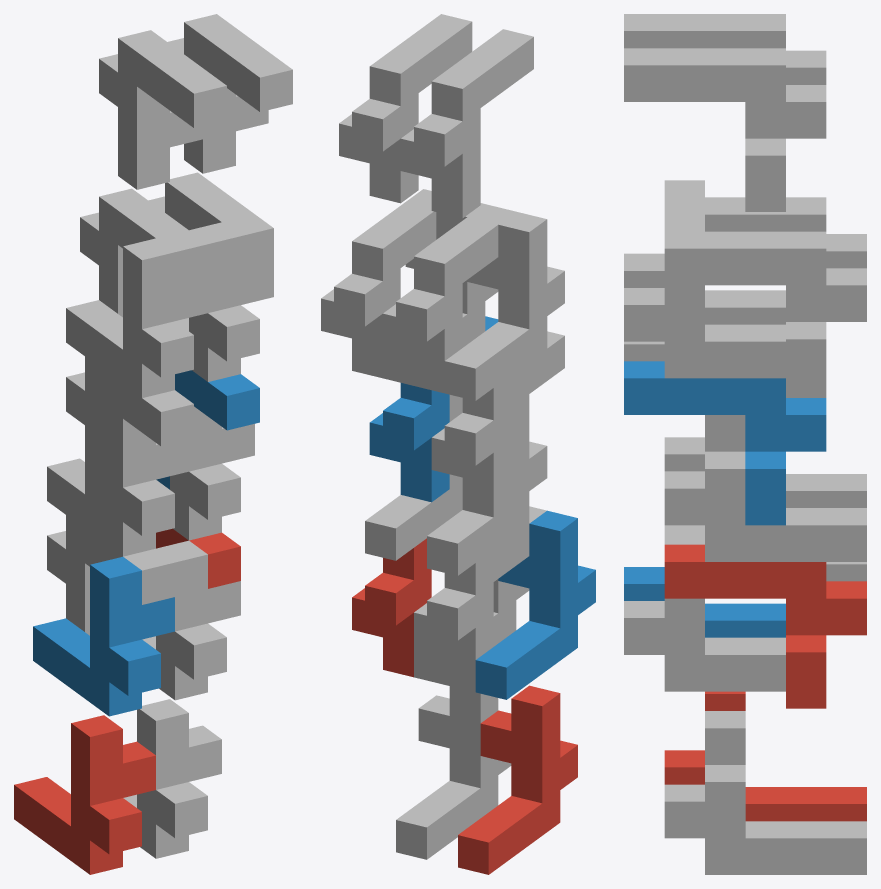
File: tiling.obj
3 renders of one model, left to right at view 1: azimuth 30°, elevation 25°; view 2: azimuth 150°, elevation 25°; view 3: azimuth 270°, elevation 25°, orthographic. The views are drawn at different scales.
Parts seen in each view (by area): view 1: copy_1_domain_1, copy_1_domain_4, copy_1_domain_2, copy_2_domain_4, copy_1_domain_3, copy_2_domain_8, copy_1_domain_5, copy_1_domain_6, copy_1_domain_8, copy_2_domain_3, copy_2_domain_2, copy_1_domain_7 (+4 smaller); view 2: copy_1_domain_1, copy_2_domain_4, copy_1_domain_4, copy_1_domain_2, copy_2_domain_8, copy_2_domain_3, copy_1_domain_5, copy_2_domain_7, copy_2_domain_2, copy_2_domain_1, copy_1_domain_3, copy_2_domain_6 (+4 smaller); view 3: copy_2_domain_7, copy_1_domain_5, copy_2_domain_8, copy_1_domain_7, copy_2_domain_5, copy_2_domain_6, copy_1_domain_6, copy_1_domain_8, copy_2_domain_4, copy_1_domain_1, copy_2_domain_3, copy_1_domain_4 (+4 smaller).
Part boxes in pixels (x1,y1,x2,y2): copy_1_domain_1: [14, 715, 155, 874]; copy_1_domain_4: [66, 238, 207, 397]; copy_1_domain_2: [33, 556, 174, 716]; copy_2_domain_4: [99, 30, 226, 189]; copy_1_domain_3: [47, 405, 188, 556]; copy_2_domain_8: [167, 14, 292, 173]; copy_1_domain_5: [123, 699, 221, 858]; copy_1_domain_6: [142, 540, 240, 700]; copy_1_domain_8: [175, 222, 273, 381]; copy_2_domain_3: [80, 188, 207, 317]; copy_2_domain_2: [66, 356, 193, 507]; copy_1_domain_7: [170, 406, 254, 540]; copy_1_domain_1: [458, 685, 577, 874]; copy_2_domain_4: [400, 29, 533, 218]; copy_1_domain_4: [444, 211, 564, 400]; copy_1_domain_2: [475, 510, 595, 699]; copy_2_domain_8: [339, 14, 472, 203]; copy_2_domain_3: [383, 204, 515, 393]; copy_1_domain_5: [396, 686, 511, 859]; copy_2_domain_7: [321, 189, 436, 378]; copy_2_domain_2: [431, 331, 564, 517]; copy_2_domain_1: [414, 506, 546, 692]; copy_1_domain_3: [427, 394, 547, 575]; copy_2_domain_6: [369, 316, 498, 502]; copy_2_domain_7: [664, 231, 866, 395]; copy_1_domain_5: [664, 711, 866, 874]; copy_2_domain_8: [624, 48, 826, 211]; copy_1_domain_7: [664, 415, 866, 561]; copy_2_domain_5: [664, 544, 866, 708]; copy_2_domain_6: [624, 361, 826, 525]; copy_1_domain_6: [624, 527, 785, 691]; copy_1_domain_8: [624, 214, 785, 378]; copy_2_domain_4: [624, 14, 826, 84]; copy_1_domain_1: [664, 691, 866, 821]; copy_2_domain_3: [664, 197, 866, 268]; copy_1_domain_4: [624, 180, 785, 324].
Bounding box in the file's own units: 6 × 23 × 6.
